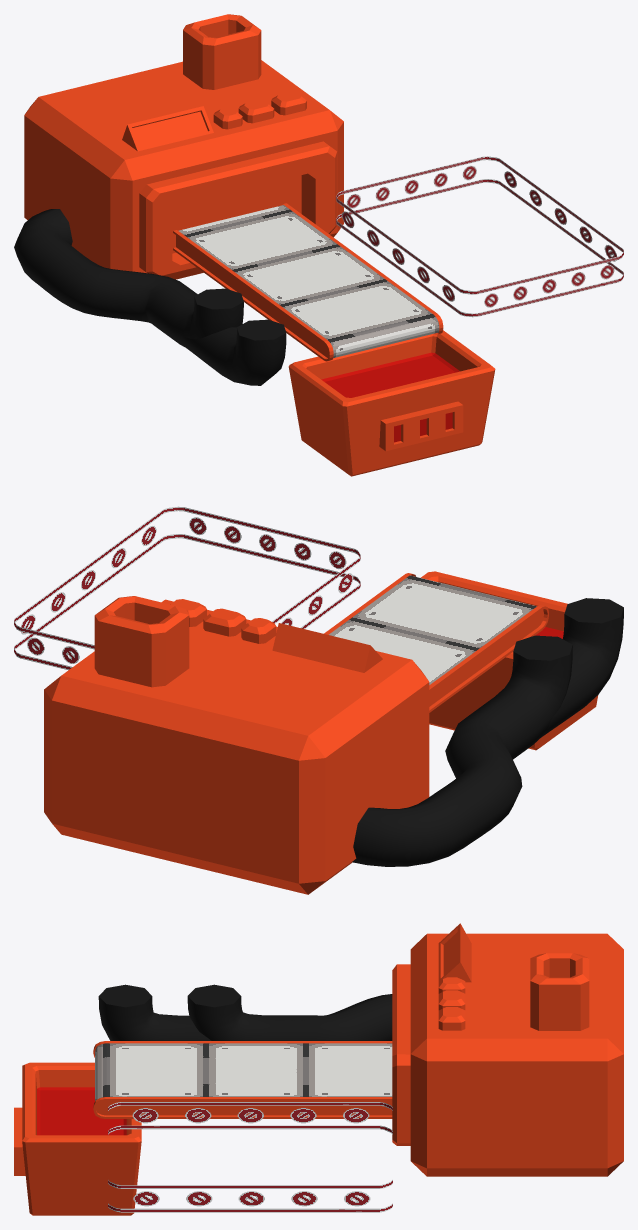
Rendered from Factory.fbx.
3 views of the same model, one above another, from view 1: azimuth 30°, elevation 25°; view 2: azimuth 150°, elevation 25°; view 3: azimuth 270°, elevation 25° (orthographic). The views are drawn at different scales.
Visible parts, largest first — view 1: FactoryMain, Belt, Melter, Pipe, DangerBelt; view 2: FactoryMain, Pipe, Belt, DangerBelt, Melter; view 3: FactoryMain, Belt, Melter, Pipe, DangerBelt.
Part boxes in pixels (x1,y1,x2,y2): FactoryMain: [24, 14, 343, 279]; Belt: [173, 203, 443, 361]; Melter: [288, 330, 495, 476]; Pipe: [14, 209, 286, 385]; DangerBelt: [336, 156, 623, 317]; FactoryMain: [44, 596, 429, 894]; Pipe: [352, 598, 623, 866]; Belt: [324, 573, 548, 712]; DangerBelt: [14, 506, 360, 670]; Melter: [421, 571, 598, 750]; FactoryMain: [392, 923, 623, 1176]; Belt: [93, 1041, 392, 1118]; Melter: [14, 1062, 141, 1215]; Pipe: [98, 984, 392, 1040]; DangerBelt: [108, 1102, 392, 1212].
Bounding box in the file's own units: 525 × 620 × 277.
